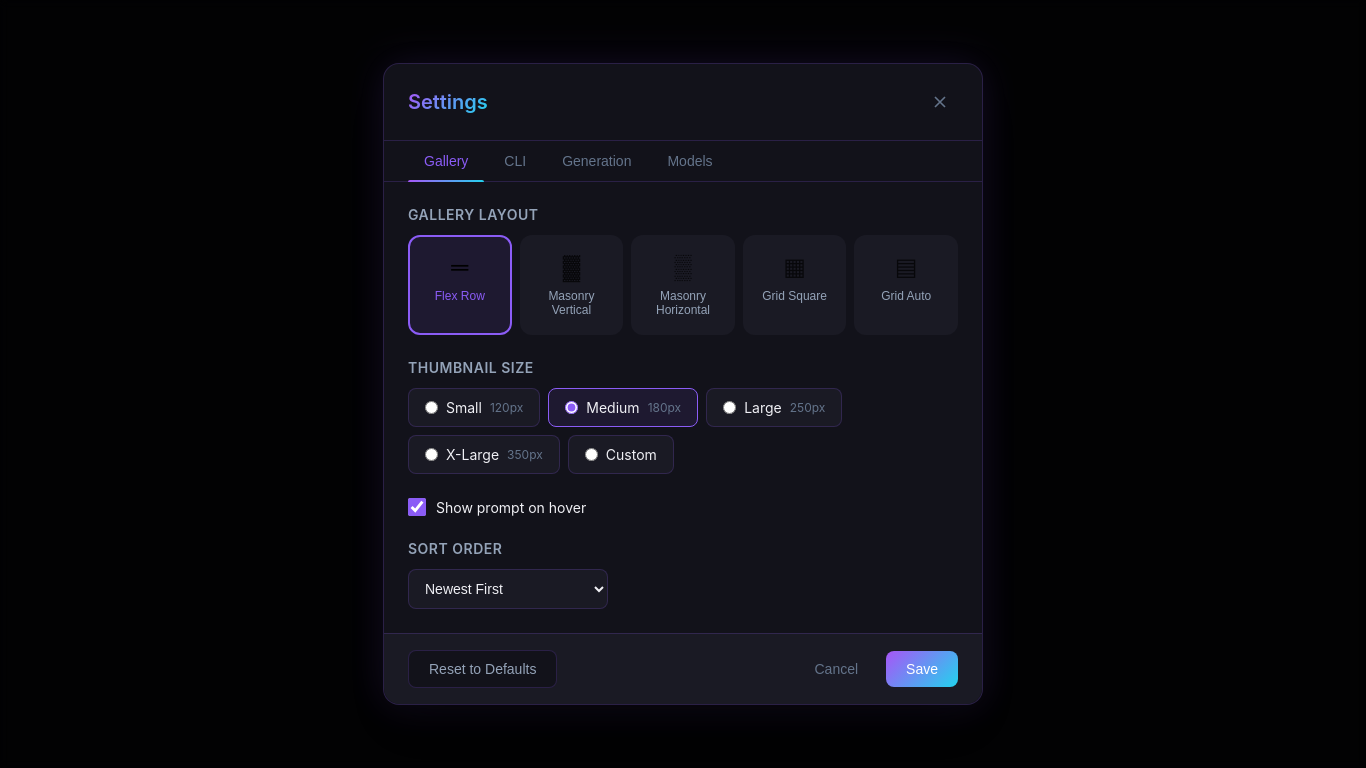
it: Settings Dialog › Tab Navigation › switches to Generation tab when clicked
Click the tab "Generation". click: (597,161)
box: [546,141,648,181]
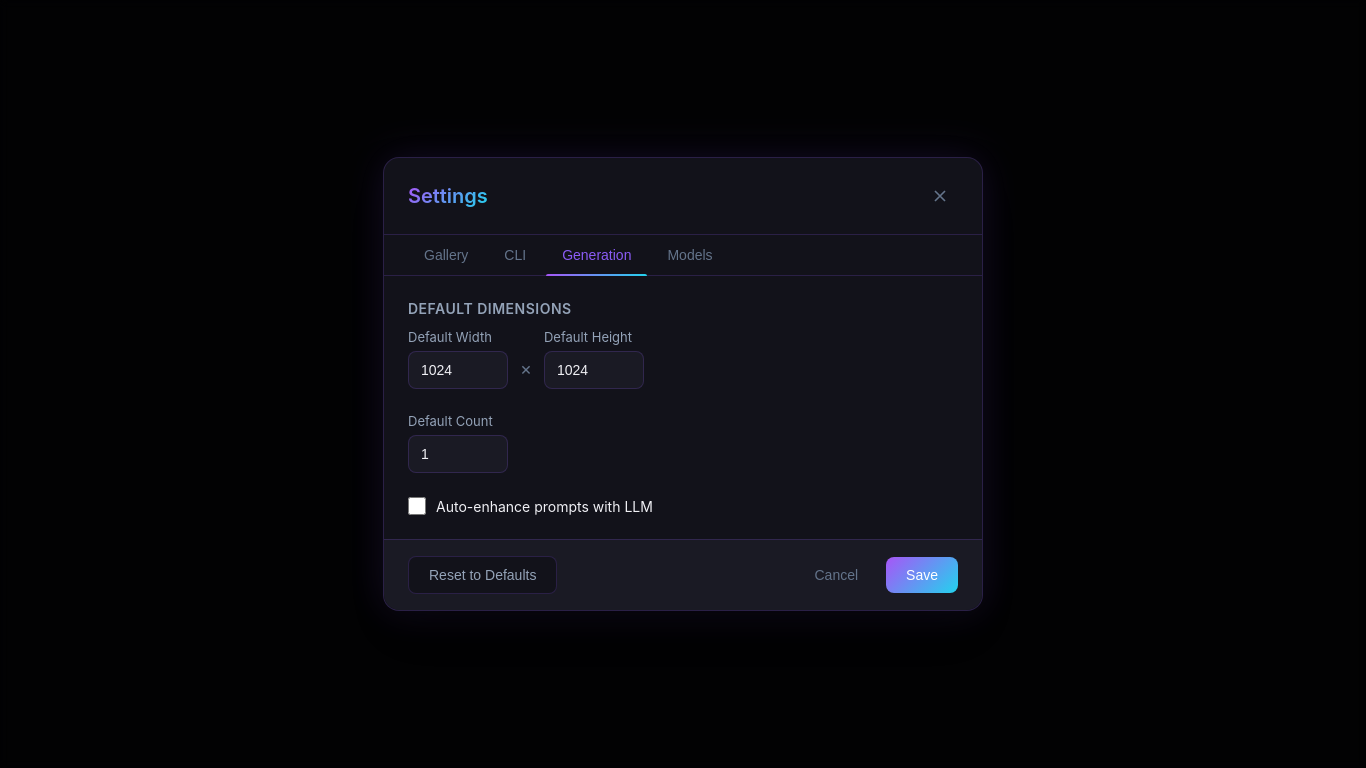
Now the text "Default Width" is shown, box [408,329,492,345]
